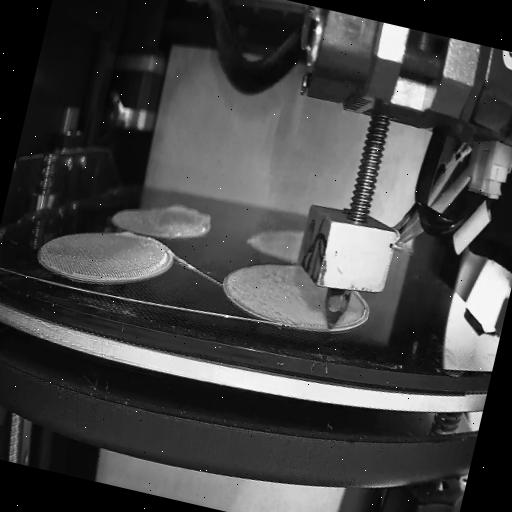over_extrusion: (161, 200, 214, 230), (336, 290, 370, 334), (118, 225, 136, 239)
